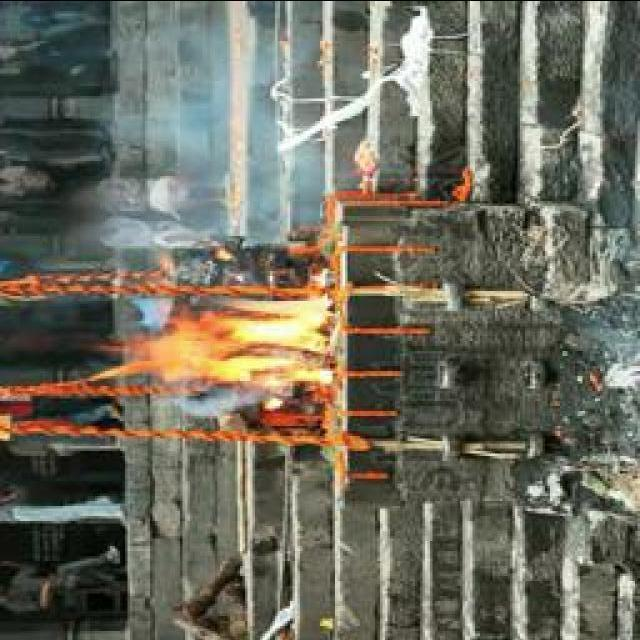Fire: (126, 292, 344, 392)
